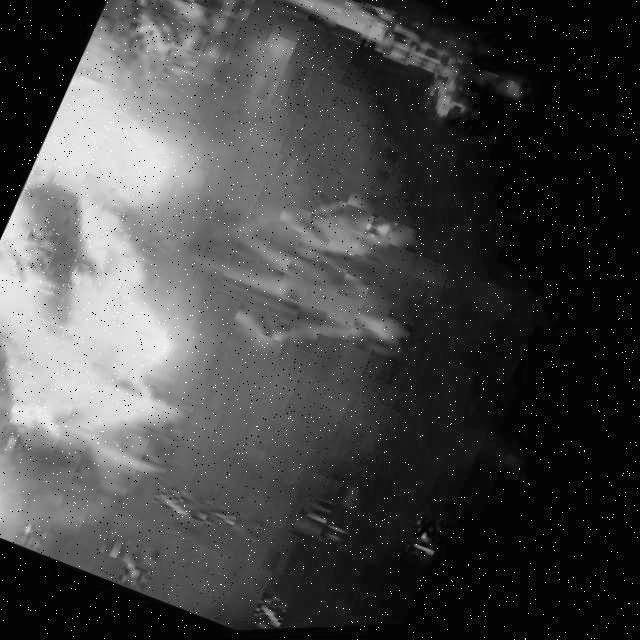Fire: (0, 58, 323, 593)
